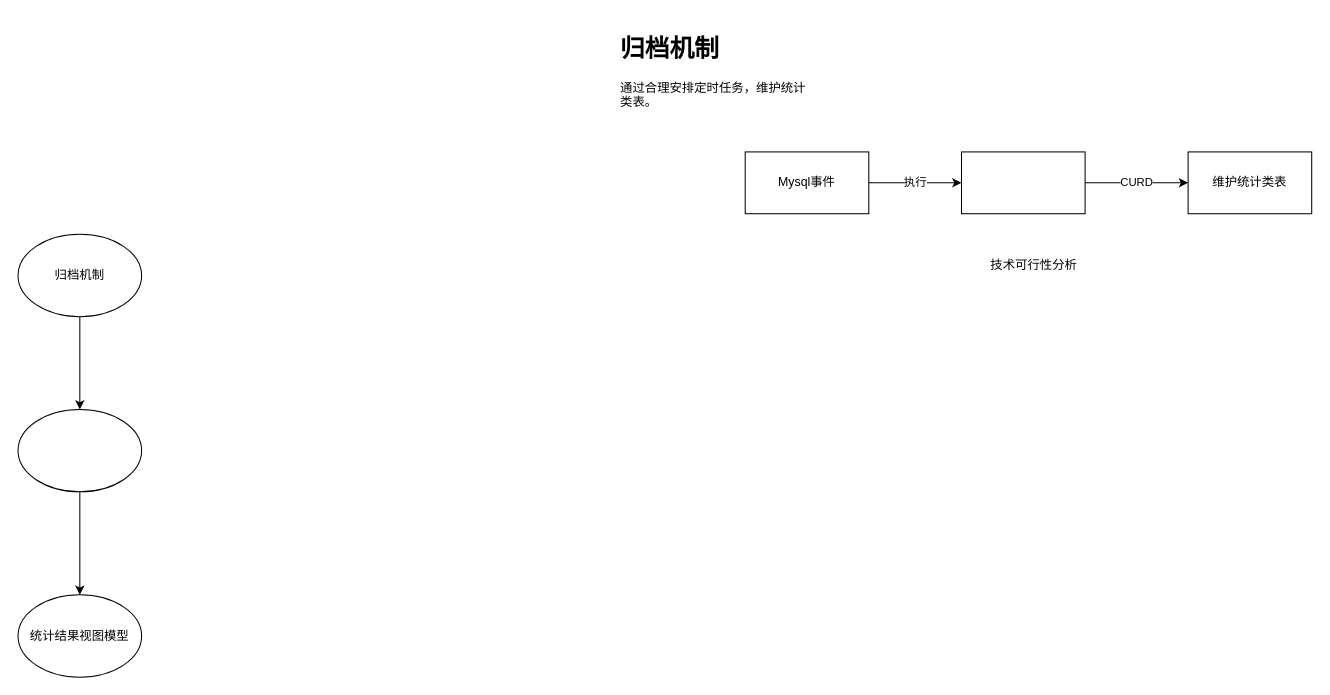
The diagram is 1330 pixels wide and 695 high, and some of its shapes have lost their labels. Here are the shapes that lost their labels. From the top down, the centre of each, then its label:
At point 1022,182: "Mysql存储过程".
At point 79,450: "统计类表：analysis_xxxx".
